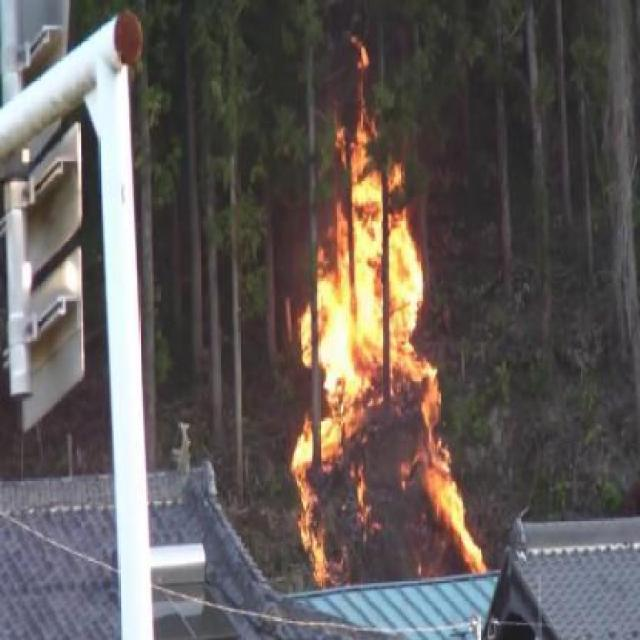Fire: (285, 34, 496, 591)
